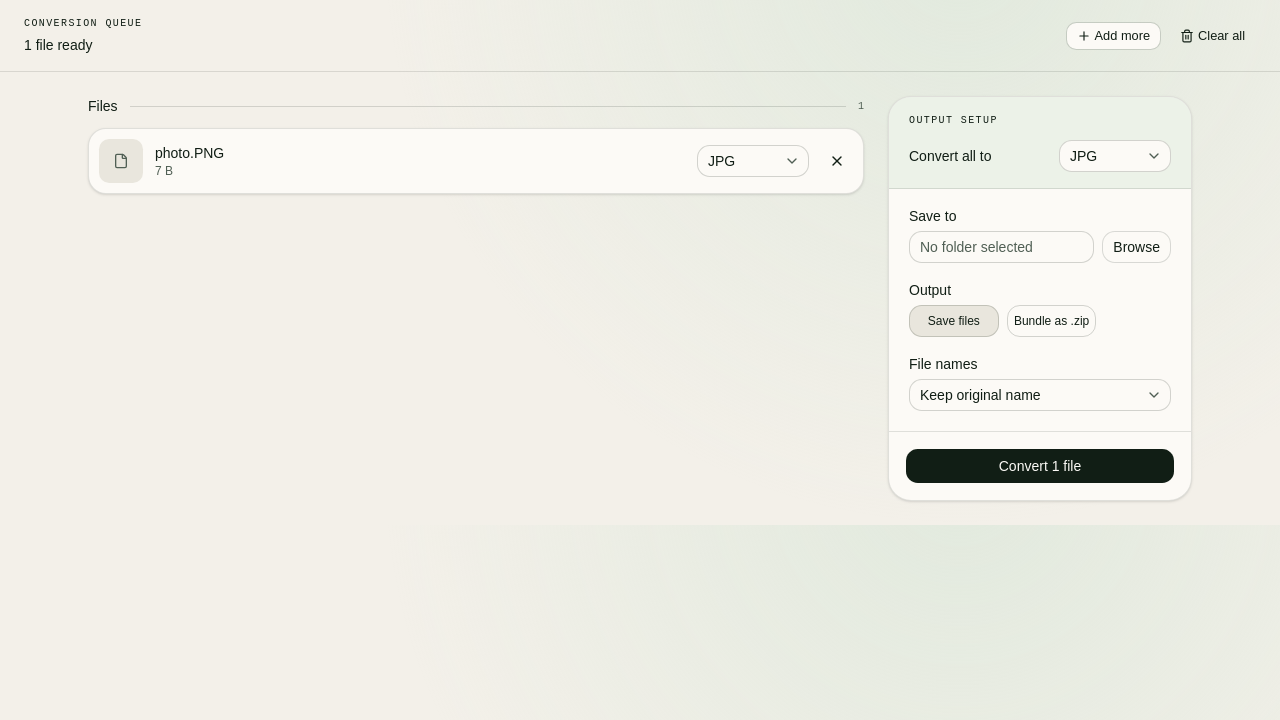
conversion queue › passes valid targets to ZIP and reports missing results as errors
The width and height of the screenshot is (1280, 720).
Click the radio button labelled "Bundle as .zip".
click(1052, 321)  # box [1007,305,1096,337]
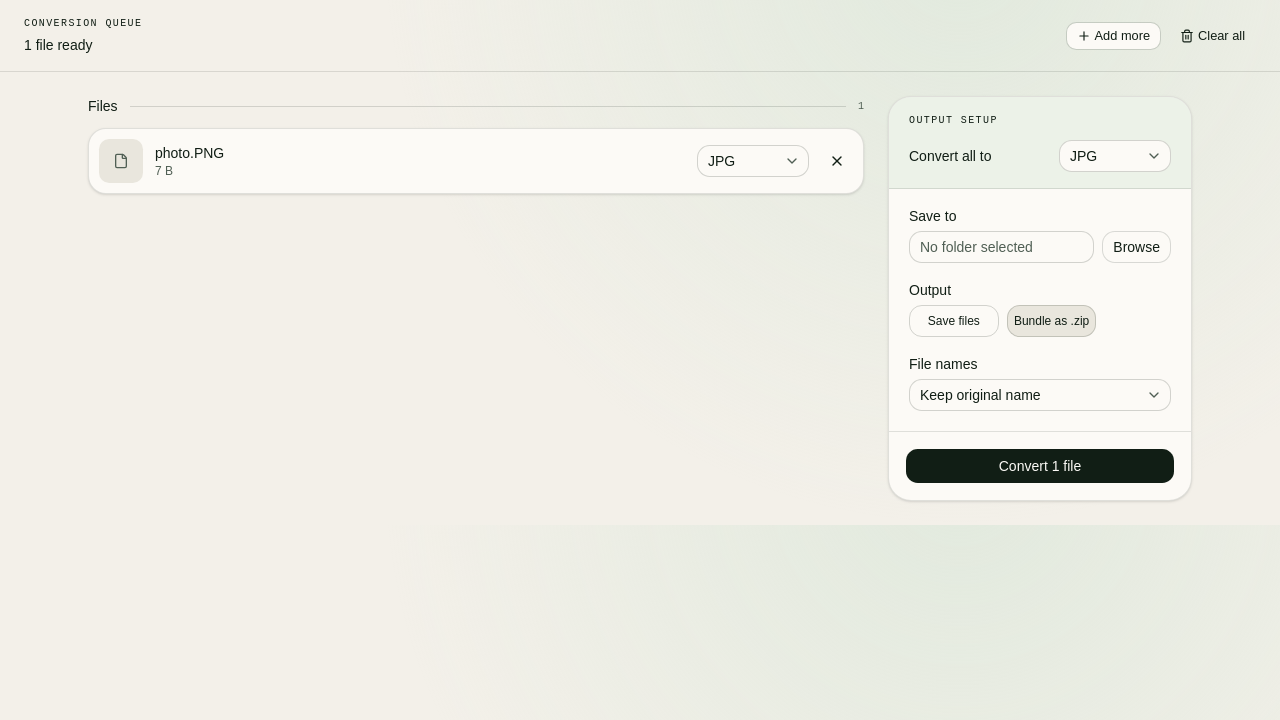
Click the button "Convert 1 file".
click(1040, 466)  # box [905,448,1175,484]
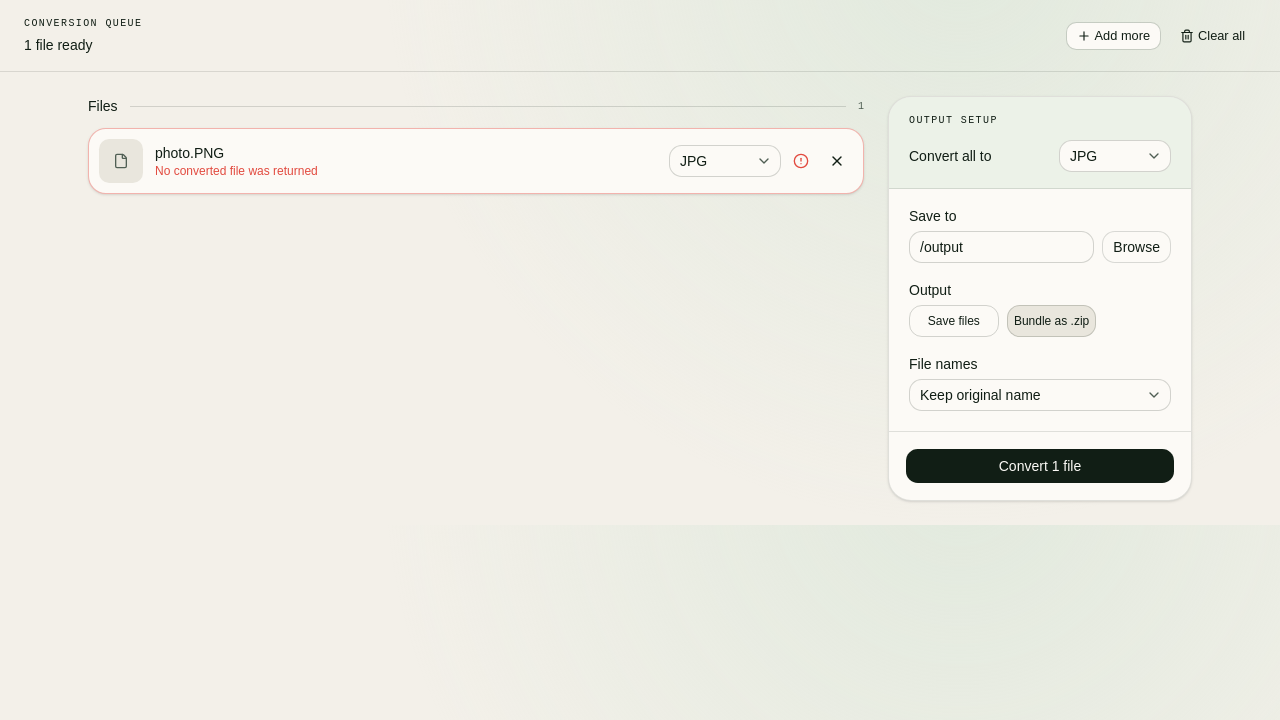
Expected: the text "JPG" in the row of "No converted file was returned" is shown, [680,153,707,169]
Expected: the text "No converted file was returned" is shown, [155,164,318,178]
